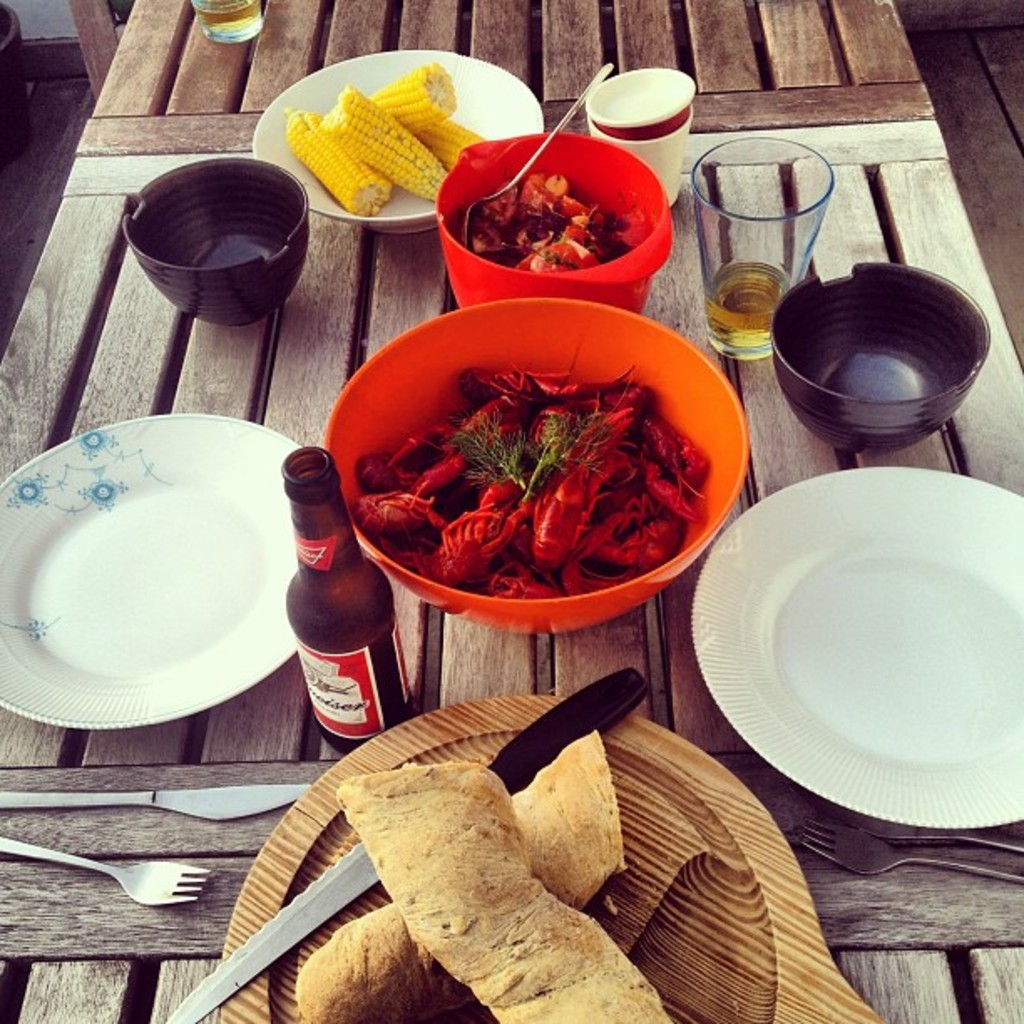plate: (0, 404, 317, 722)
